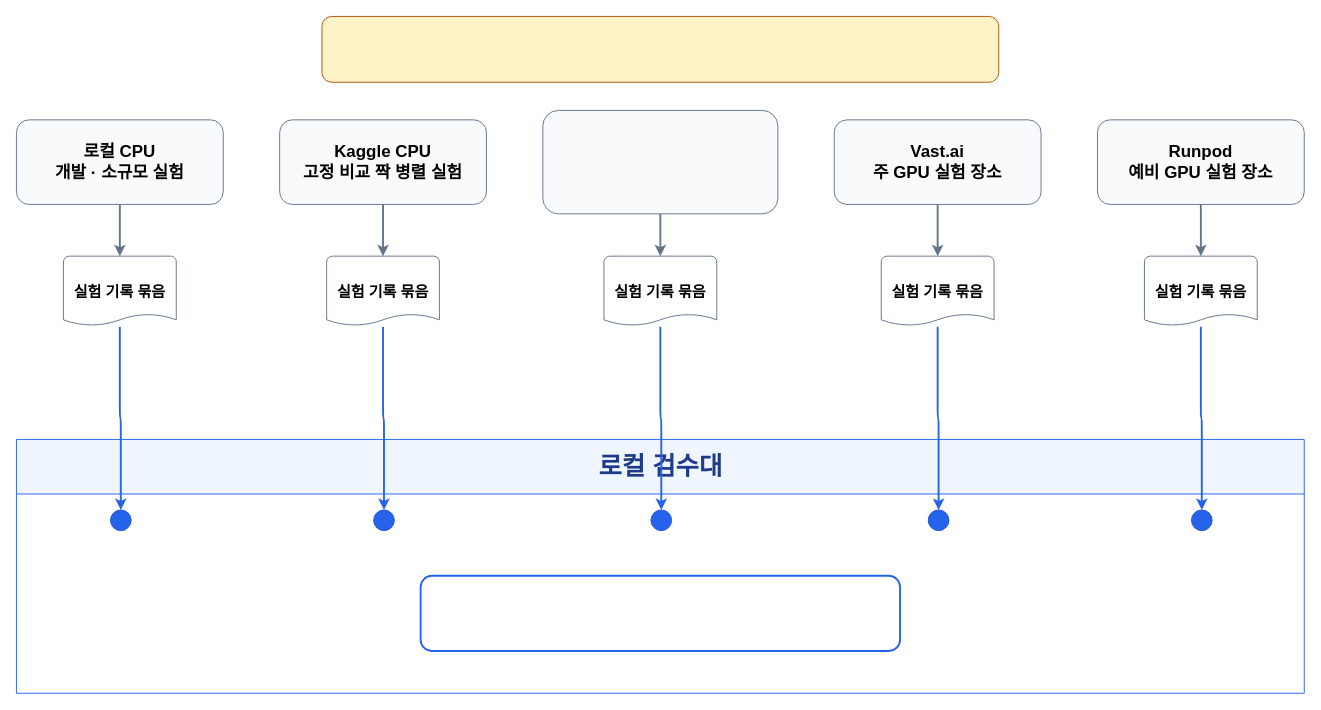
This 1321x710 diagram has some shape labels left out. The centre of each missing label's shape, as x and y in pixels:
Kaggle GPU 초반 정식 실험 후반 호환성 확인과 진단: (660,162)
반입 · 재채점 · 판정: (660,612)
하나의 고정된 실험 명세: (660,49)
